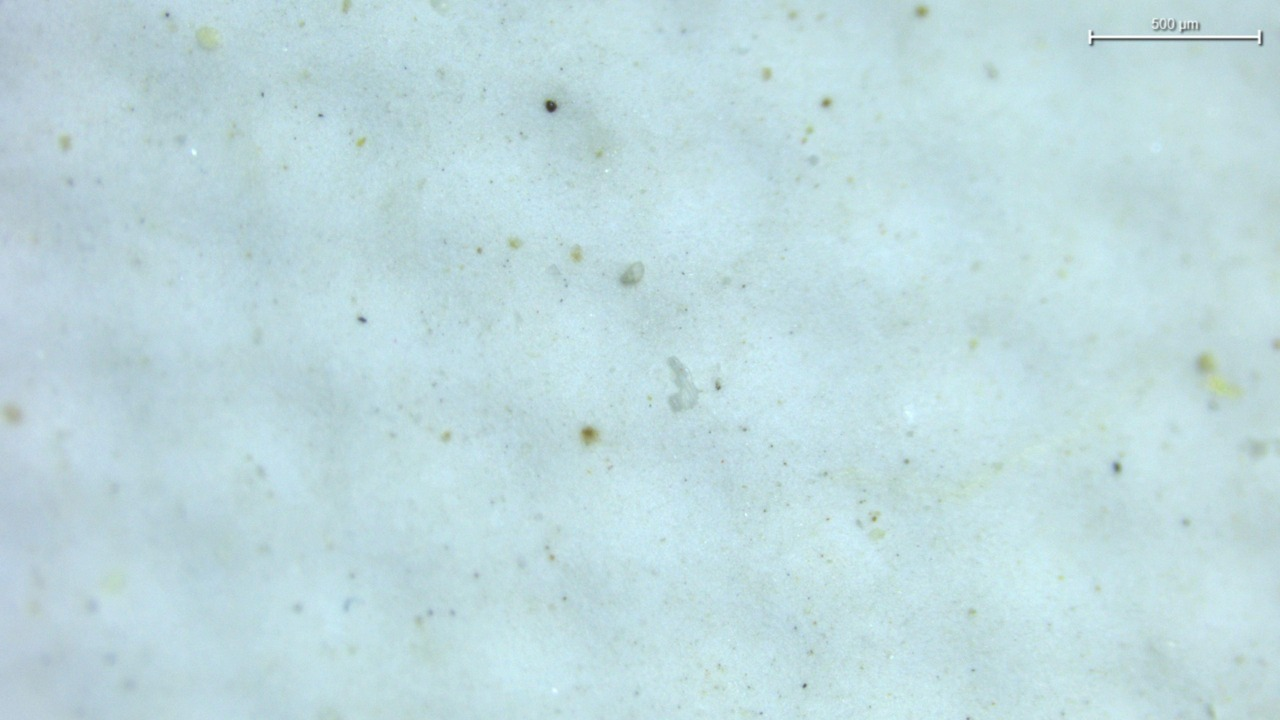microplastic_fragment: (667, 356, 699, 412)
